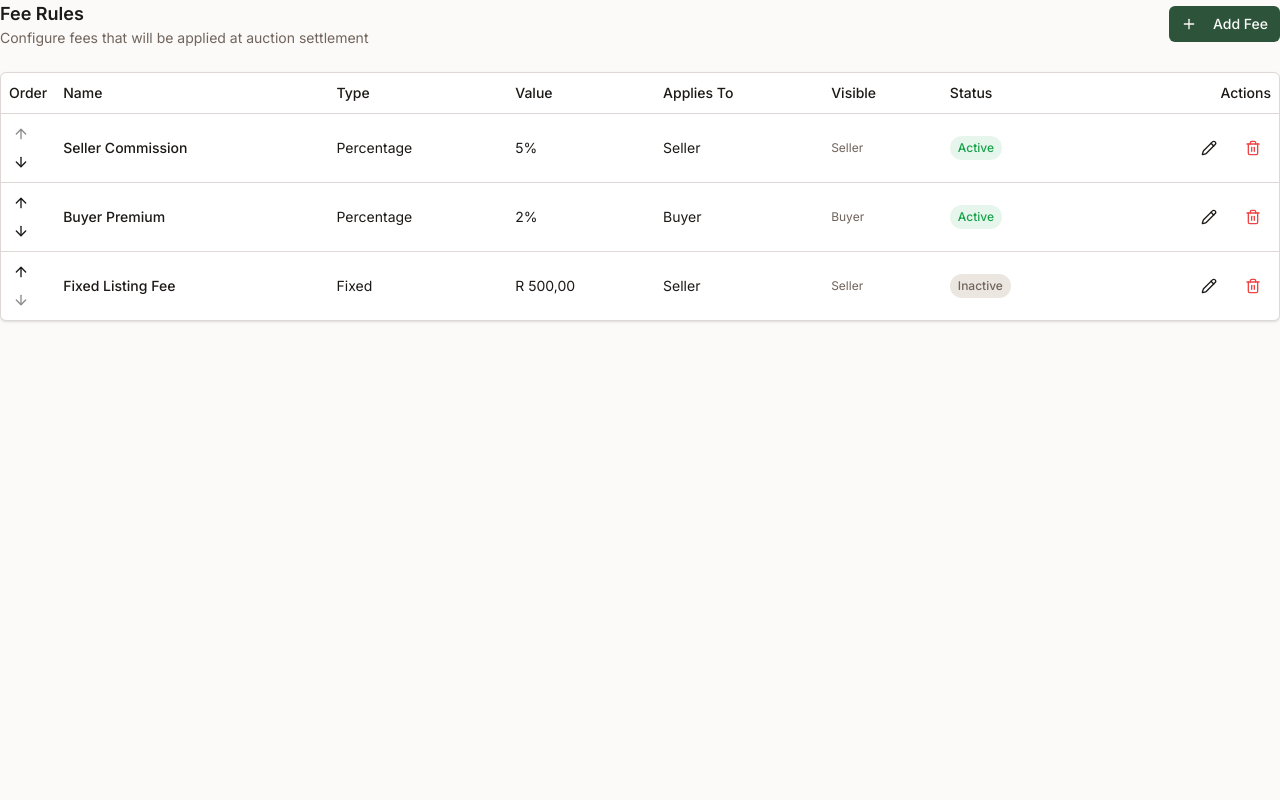
Test case: FeeManager › opens edit dialog with pre-filled data
Click the button named "edit fee seller commission".
click(1209, 148)  # box [1191,132,1227,164]
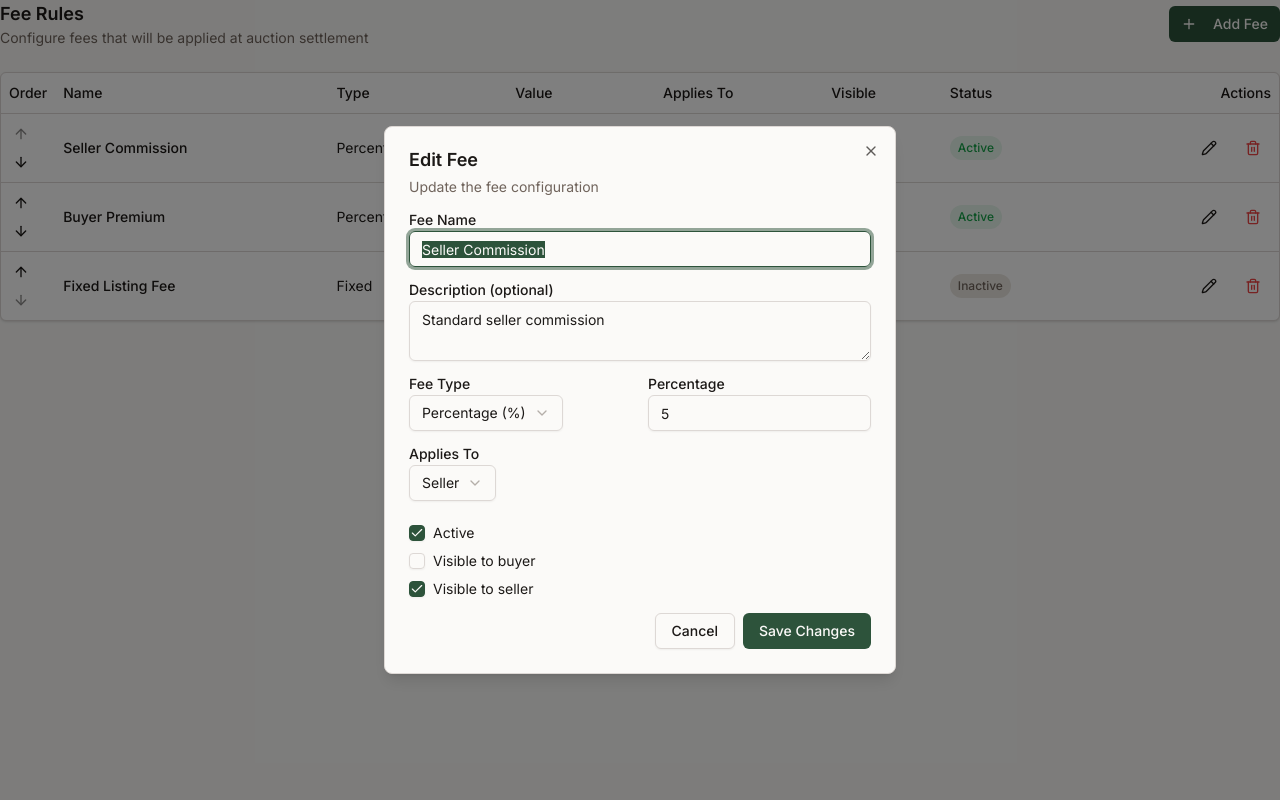
Expected: the heading "Edit Fee" is shown, [409,149,478,170]
Expected: the field showing "Seller Commission" is shown, [409,231,871,267]
